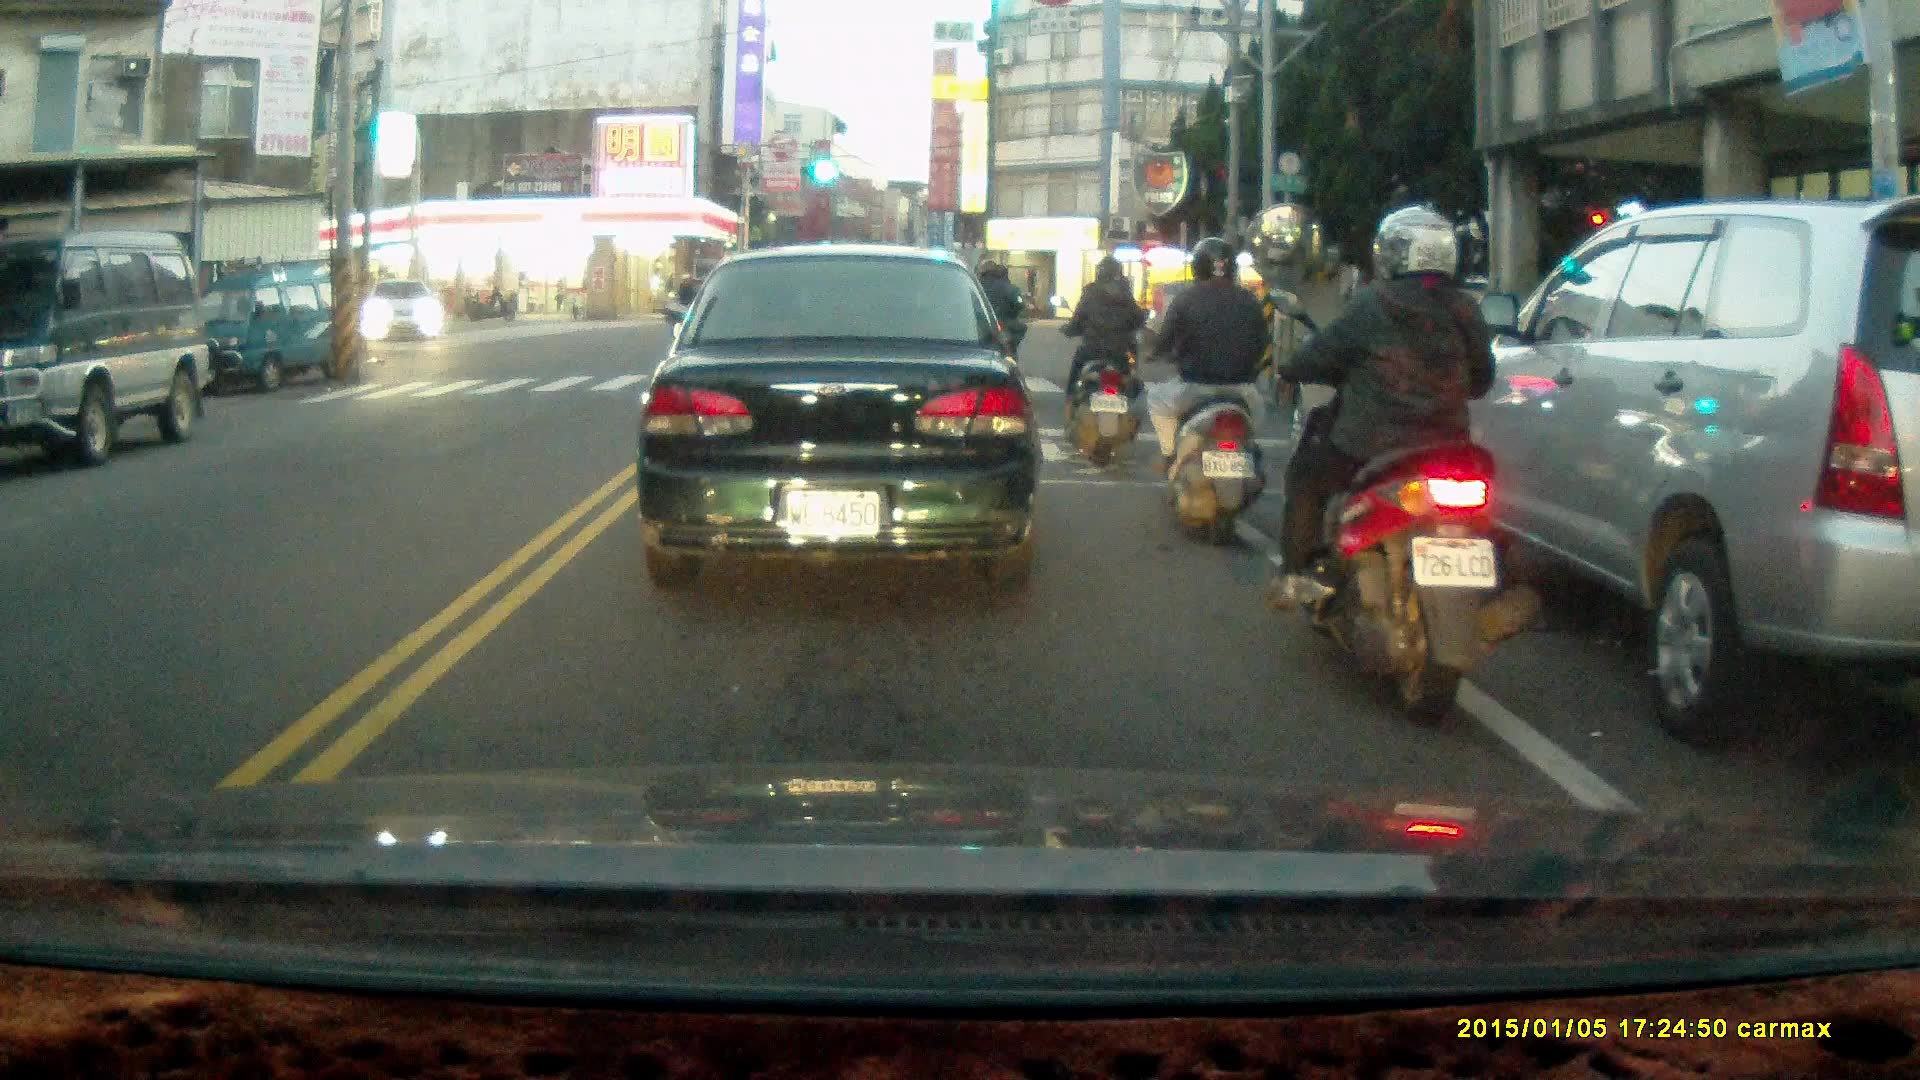rider: (1268, 204, 1528, 725), (1120, 233, 1272, 539), (1048, 249, 1145, 463), (965, 261, 1023, 387), (662, 276, 711, 321)
vehicle: (1405, 195, 1920, 750), (636, 241, 1043, 594), (1, 234, 212, 458), (178, 262, 359, 399), (368, 278, 448, 345)
